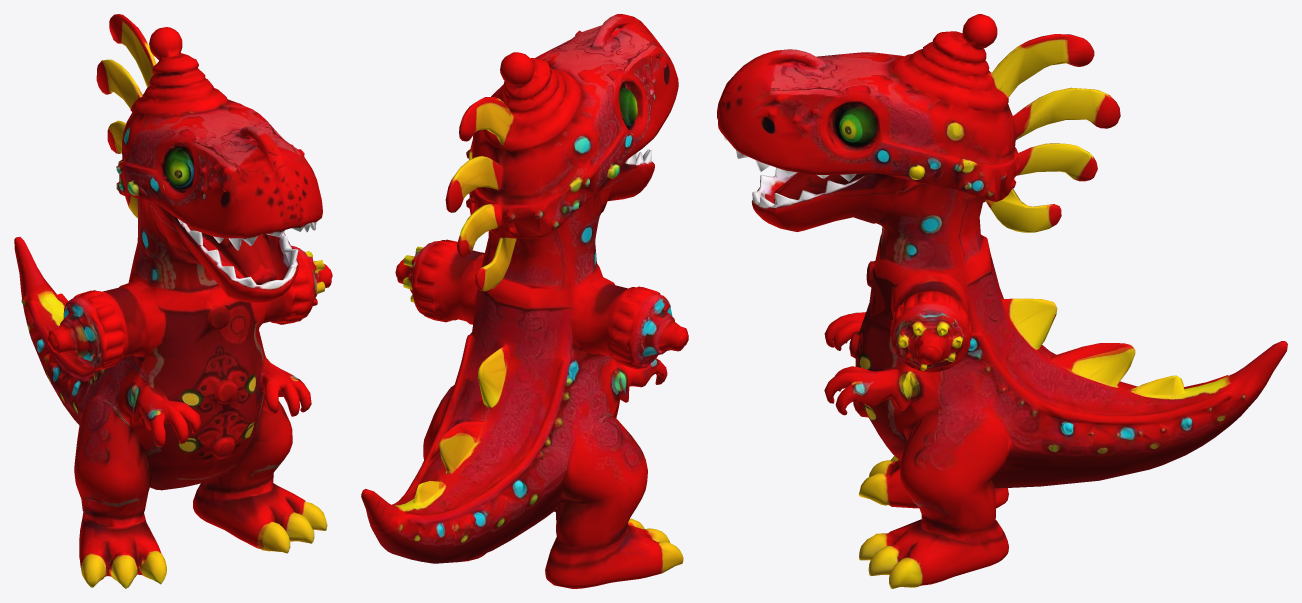
The model's file is fire-hydrant-dinosaur-36027.glb.
3 renders of one model, left to right at view 1: azimuth 30°, elevation 25°; view 2: azimuth 150°, elevation 25°; view 3: azimuth 270°, elevation 25°, orthographic. The views are drawn at different scales.
Size of the model in its own units: 1.11 by 1.91 by 1.91.
Materials: 1 (1 with a texture image).
